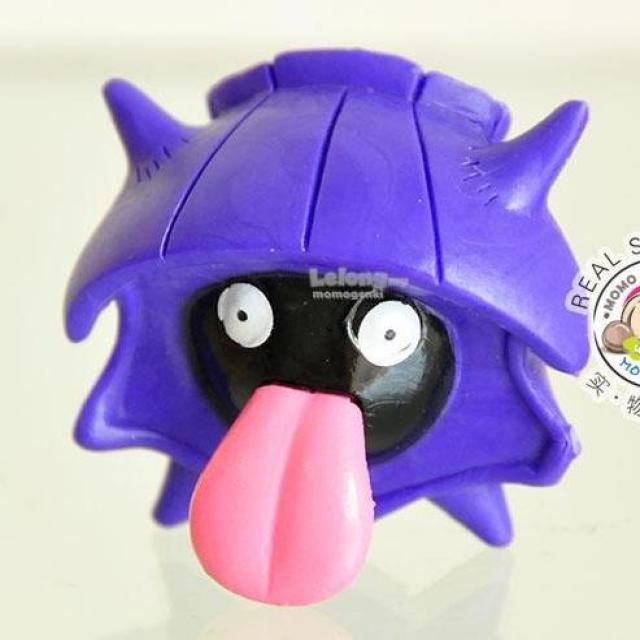Shellder: (75, 58, 590, 598)
